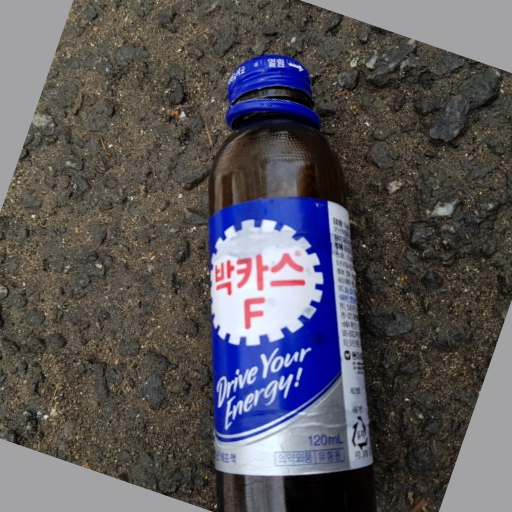Glass_3: (204, 57, 377, 512)
